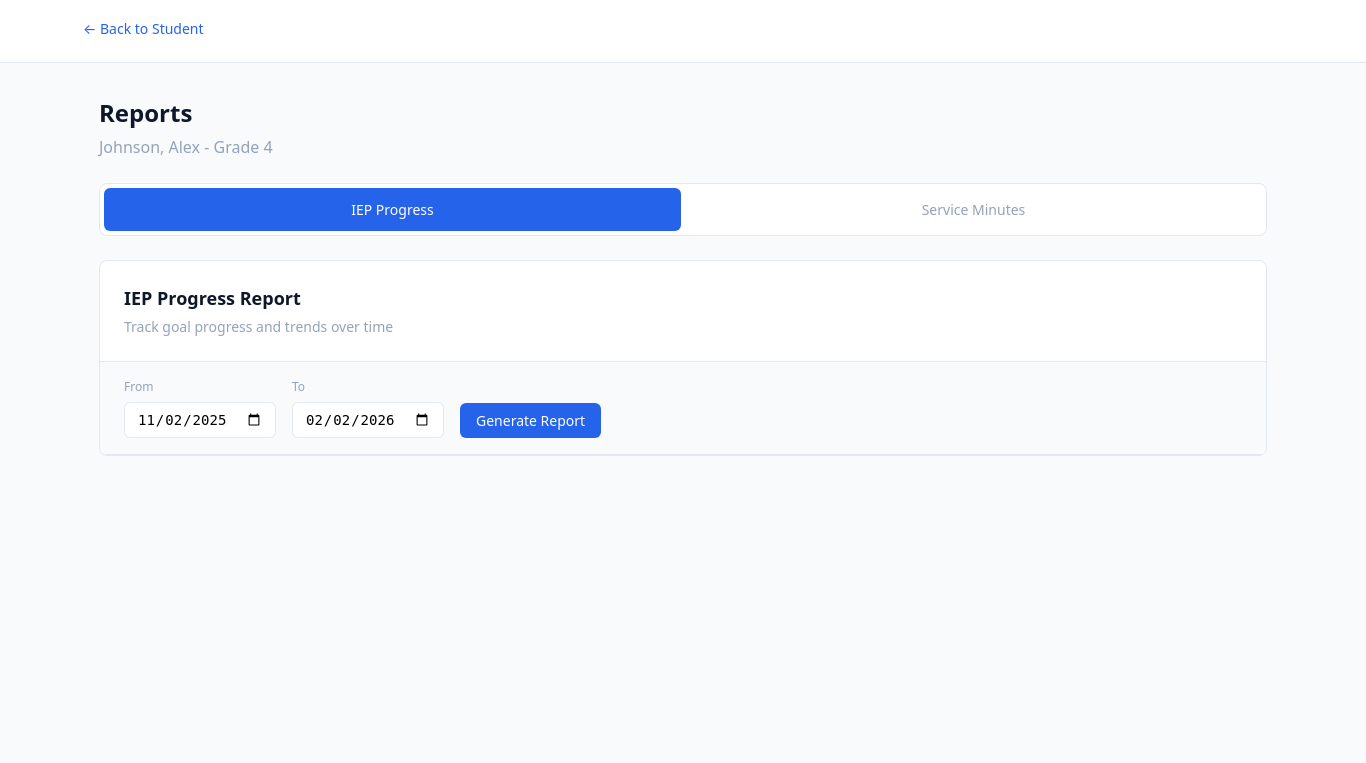
it: Reports Page › Service Minutes Report › displays service breakdown by type
Click the button "Service Minutes".
click(974, 210)  # box x1=685 y1=188 x2=1262 y2=231
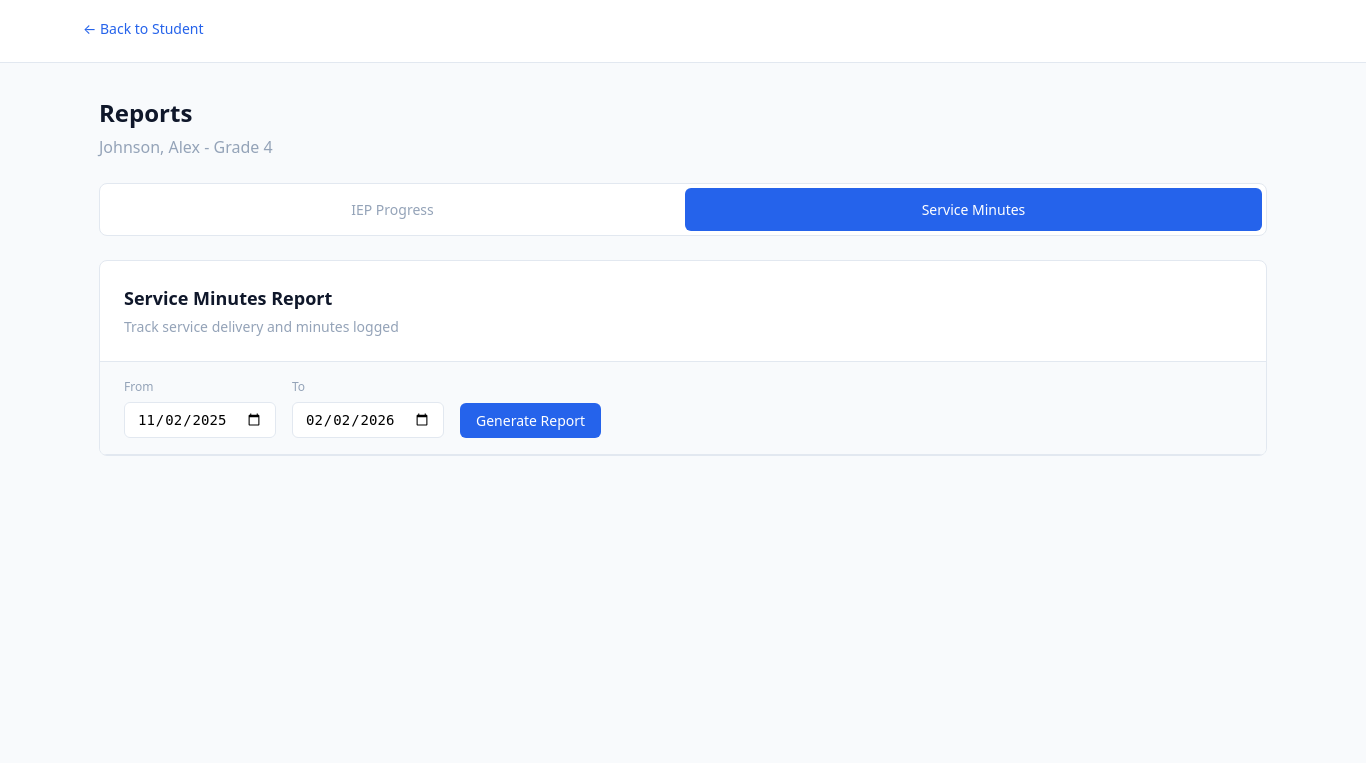
Click the button "Generate Report".
click(531, 420)  # box x1=460 y1=403 x2=601 y2=438
(page scrolled)
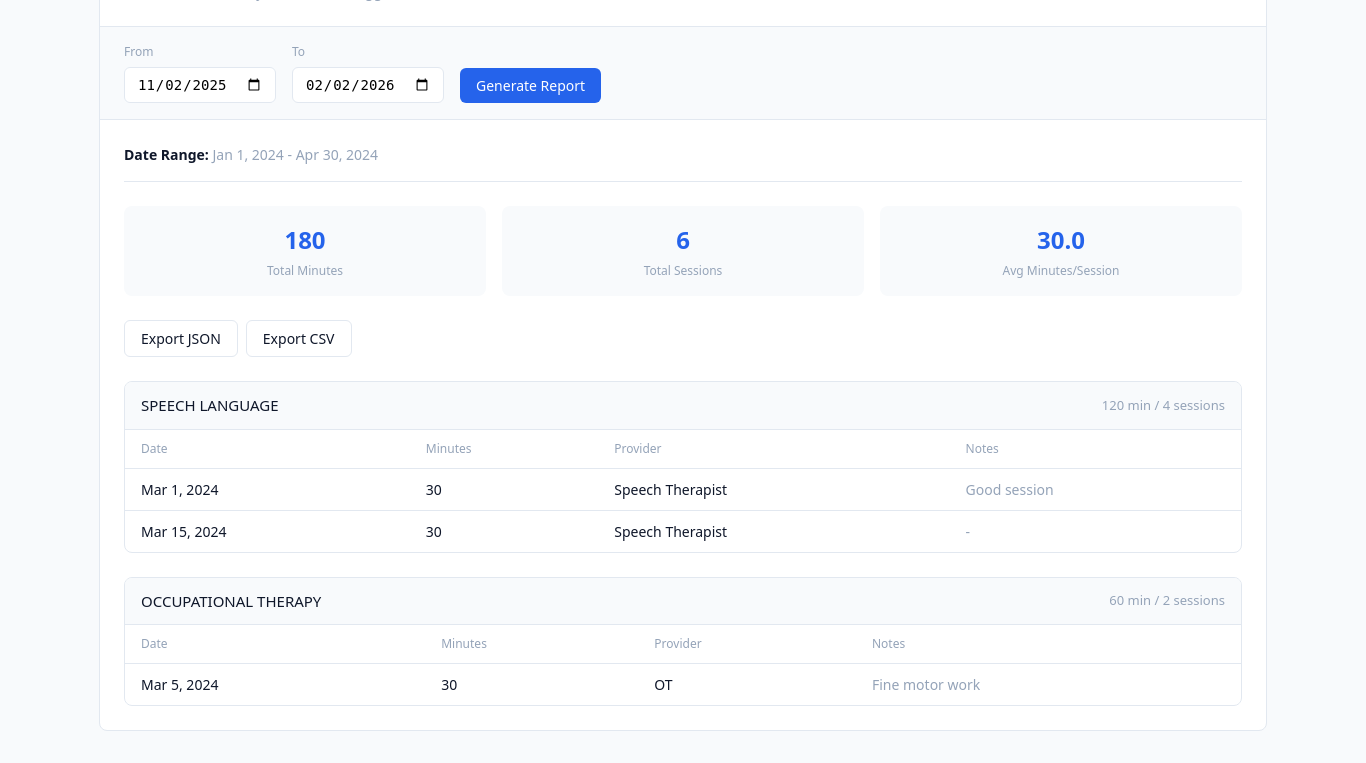
Expected: the heading "SPEECH LANGUAGE" is shown, x1=141 y1=394 x2=279 y2=416
Expected: the heading "OCCUPATIONAL THERAPY" is shown, x1=141 y1=590 x2=321 y2=612
